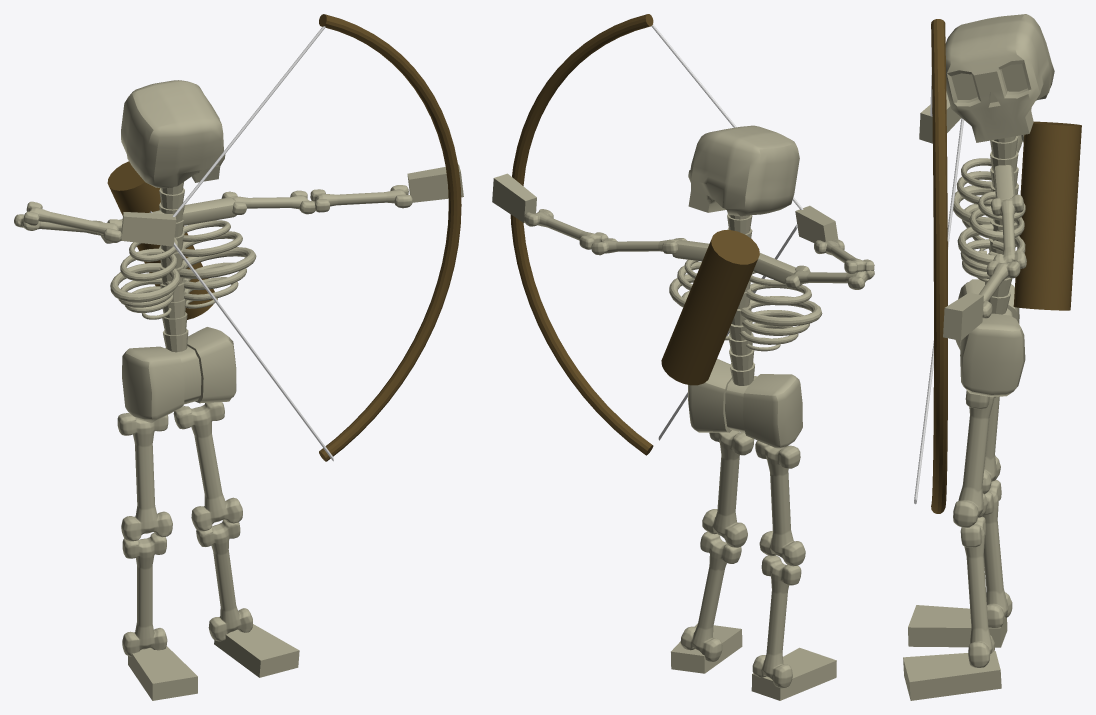
Rendered from BowSkelleFInal.fbx.
3 views of the same model, side by side, from view 1: azimuth 30°, elevation 25°; view 2: azimuth 150°, elevation 25°; view 3: azimuth 270°, elevation 25° (orthographic). The views are drawn at different scales.
Parts seen in each view (by area): view 1: Bones, Bow, Quiver, Bowstring, BowString; view 2: Bones, Quiver, Bow; view 3: Bones, Quiver, Bow, Bowstring.
Part boxes in pixels (x1,y1,x2,y2): Bones: (14, 80, 463, 700); Bow: (319, 14, 461, 461); Quiver: (107, 161, 214, 319); Bowstring: (150, 211, 333, 461); BowString: (172, 26, 325, 216); Bones: (492, 125, 874, 700); Quiver: (661, 230, 759, 385); Bow: (510, 14, 653, 455); Bones: (903, 14, 1054, 700); Quiver: (1013, 121, 1081, 310); Bow: (931, 19, 947, 513); Bowstring: (914, 118, 963, 504).
Bounding box in the file's own units: 5.7 × 8.38 × 1.93.
